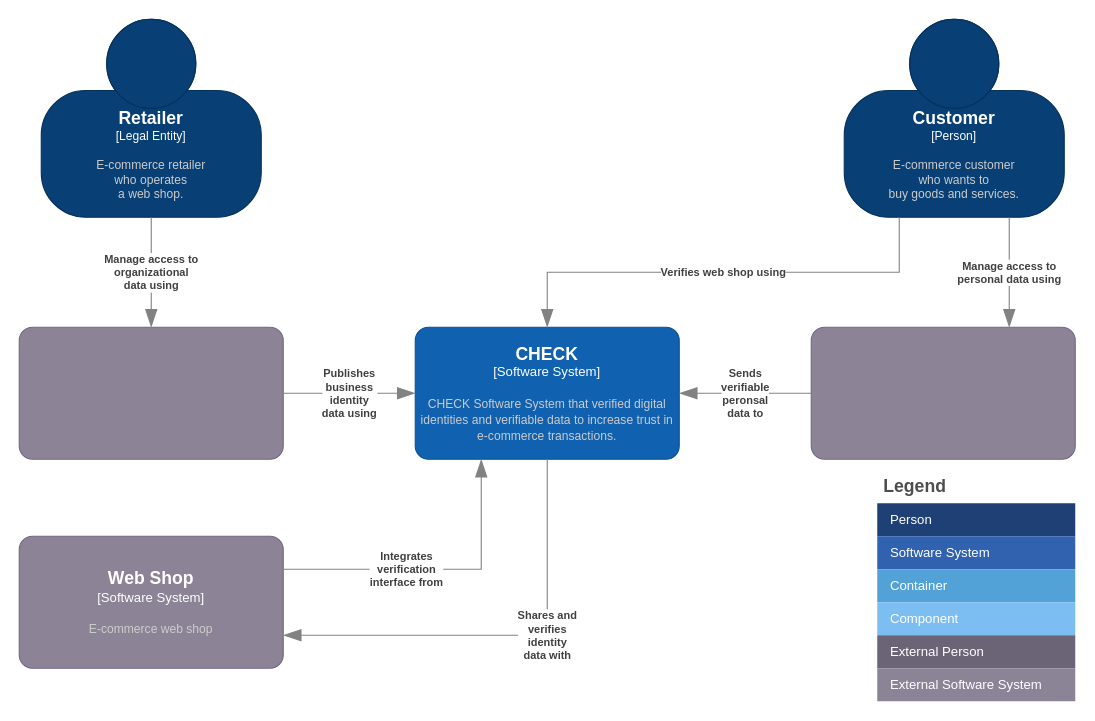
Image size: 1095x721. Some labels were removed from this diagram. The shapes that lost their labels are listed below. From the top down, each one's centre as x and y in pixels, then its label:
the point at 150,392: Organizational Wallet [Software System] Organizational digital wallet
the point at 942,392: Personal Wallet [Software System] Personal digital wallet
